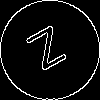Z: (25, 25, 74, 80)
